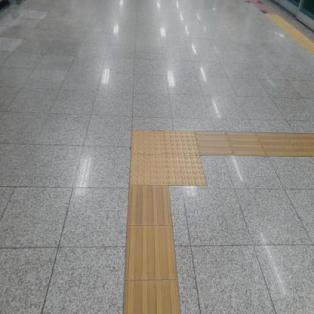Podoctatil: (99, 99, 231, 220), (123, 186, 179, 314), (195, 131, 313, 160)
